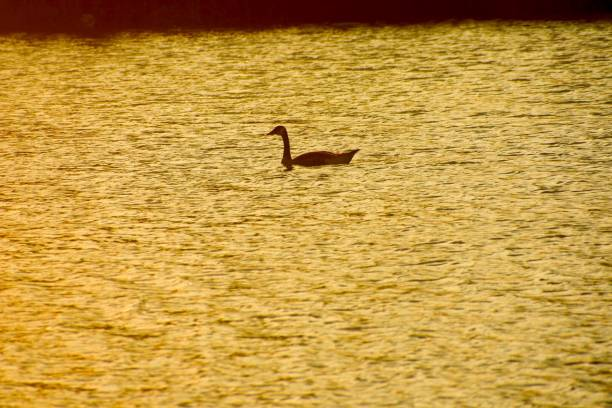goose: (265, 125, 362, 168)
